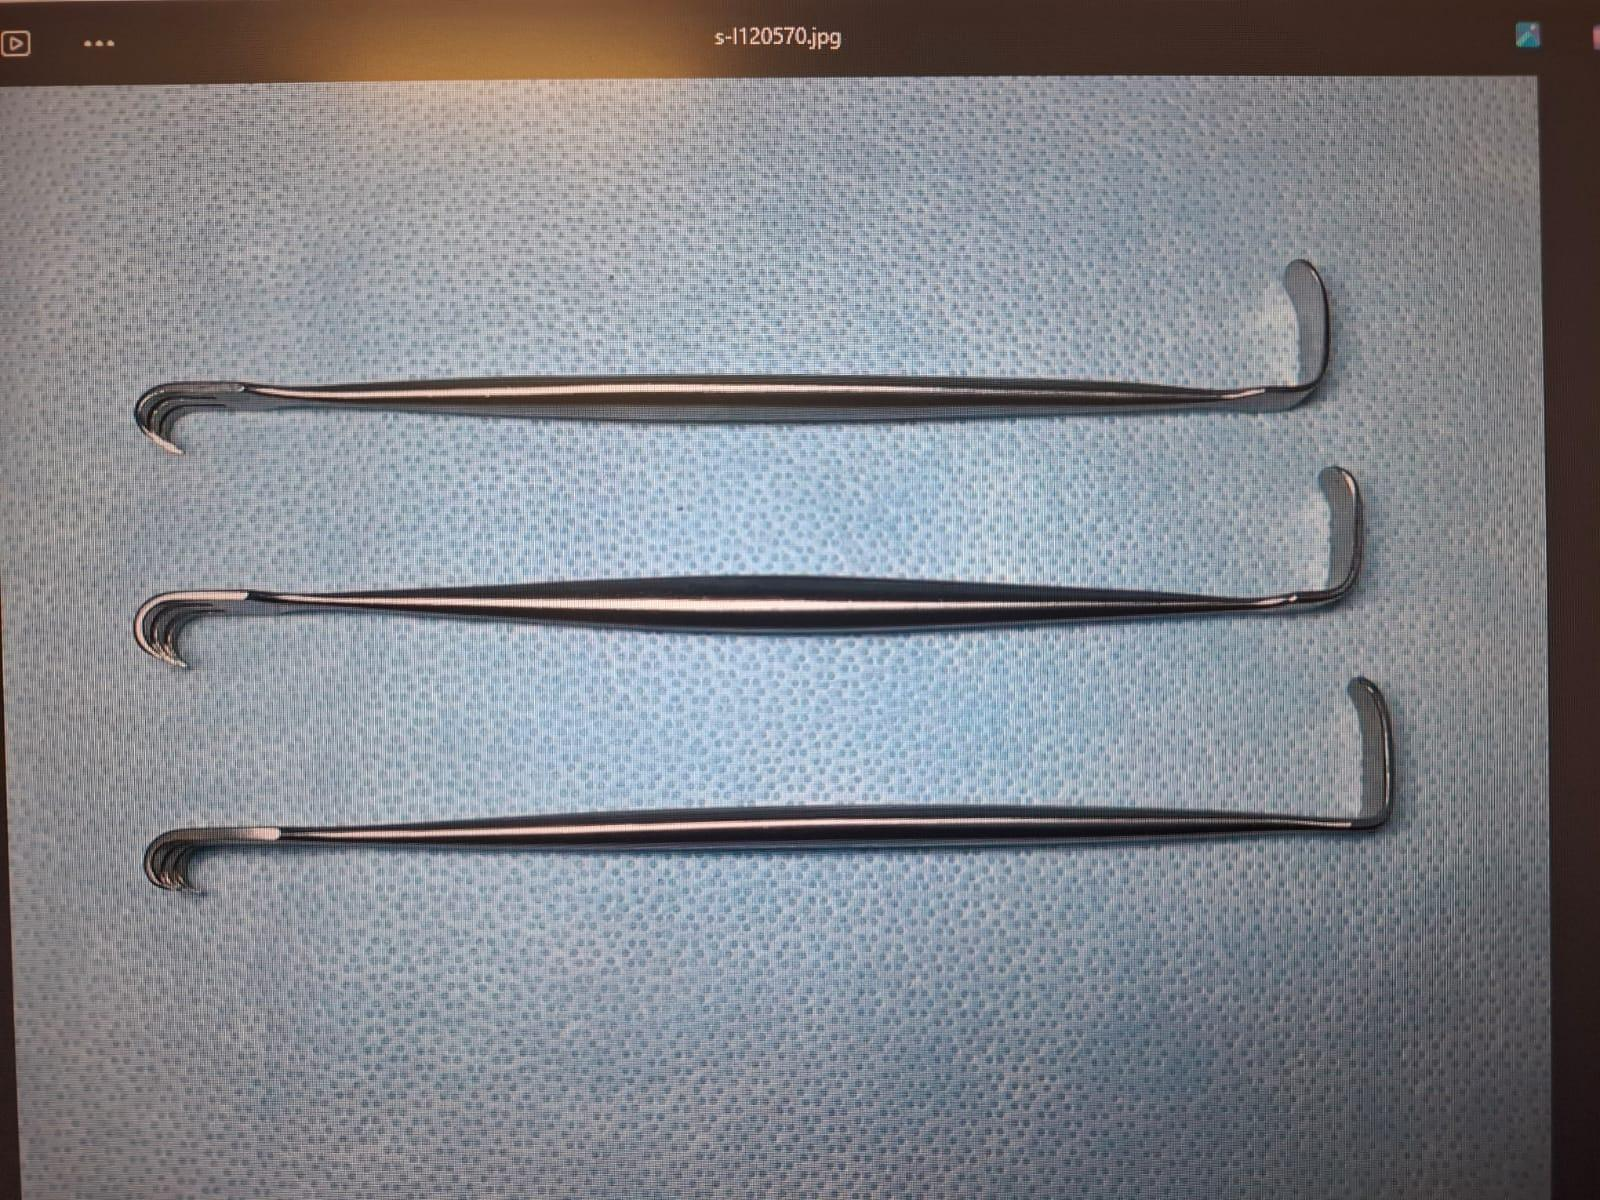Senn Retractor: (134, 666, 1427, 921), (134, 246, 1361, 504), (113, 463, 1380, 692)
